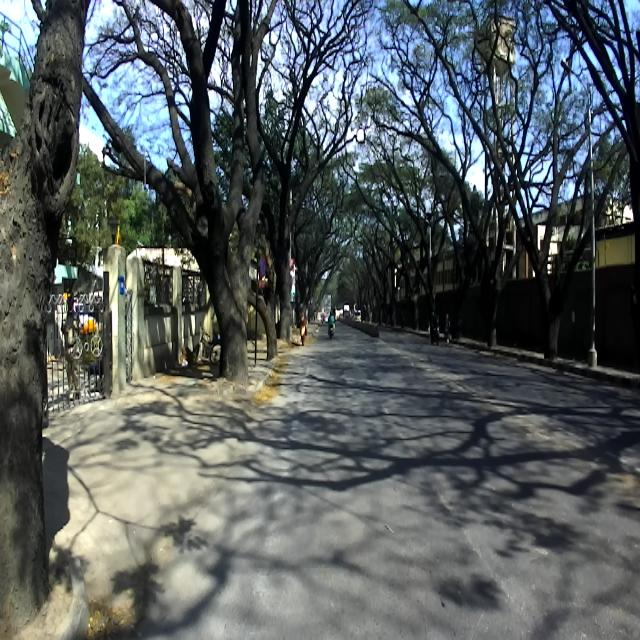tree ahead at: (168, 11, 272, 389)
